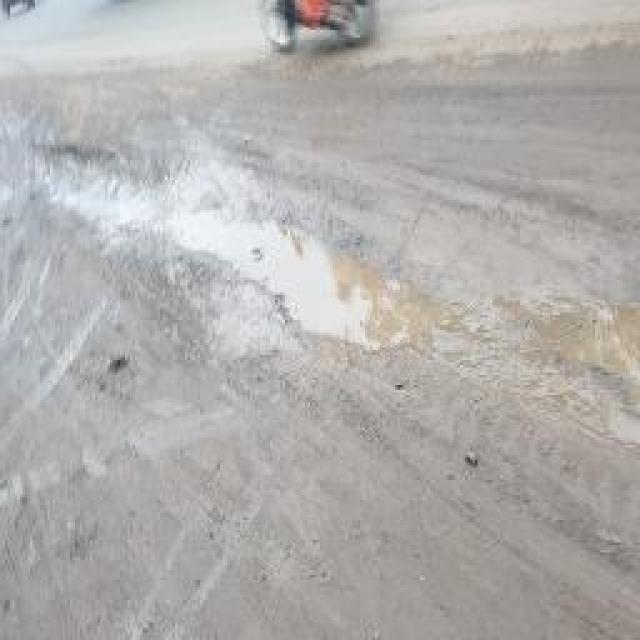stagnation: (224, 230, 469, 350)
